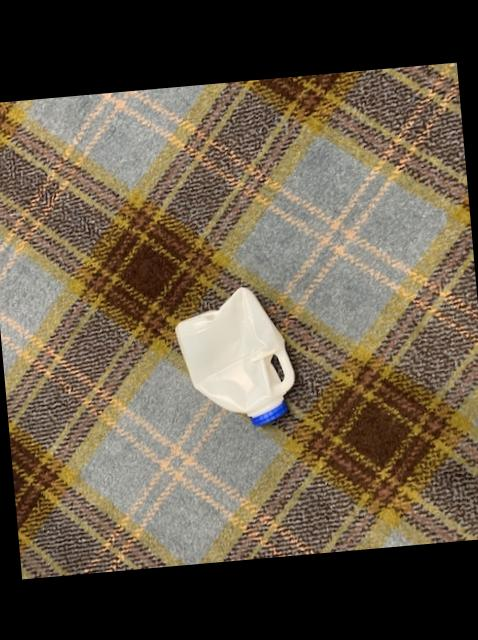plastic: (177, 285, 295, 423)
